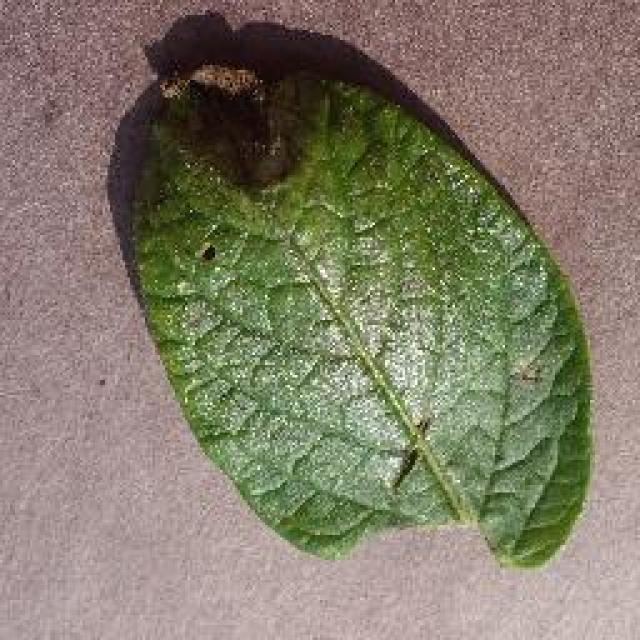Potato___Late_blight: (128, 57, 597, 569)
